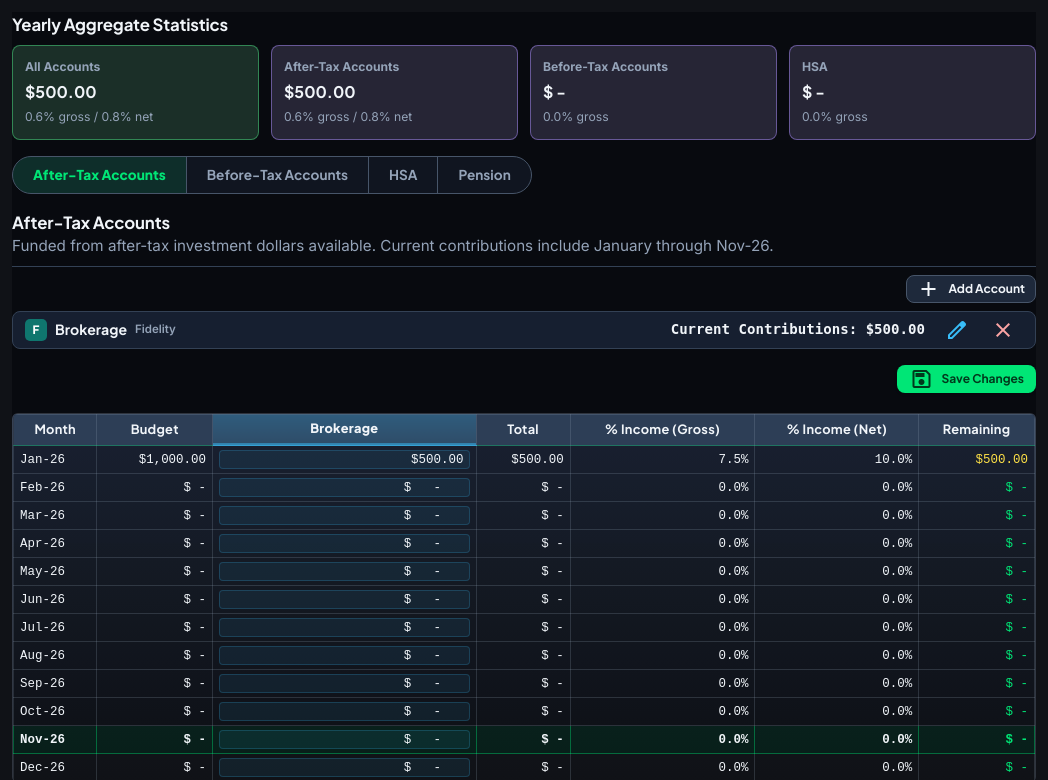
Scenario: FundingSchedulePage › presents yearly aggregate statistics and selects an allocation value for editing
Expected: the heading "Yearly Aggregate Statistics" is shown, [12, 14, 228, 35]
Expected: the element named "Funding schedule summary" shows "All Accounts", [25, 59, 100, 74]
Click the field named "Brokerage Jan-26 allocation" at x=344, y=460, box [219, 450, 470, 469]
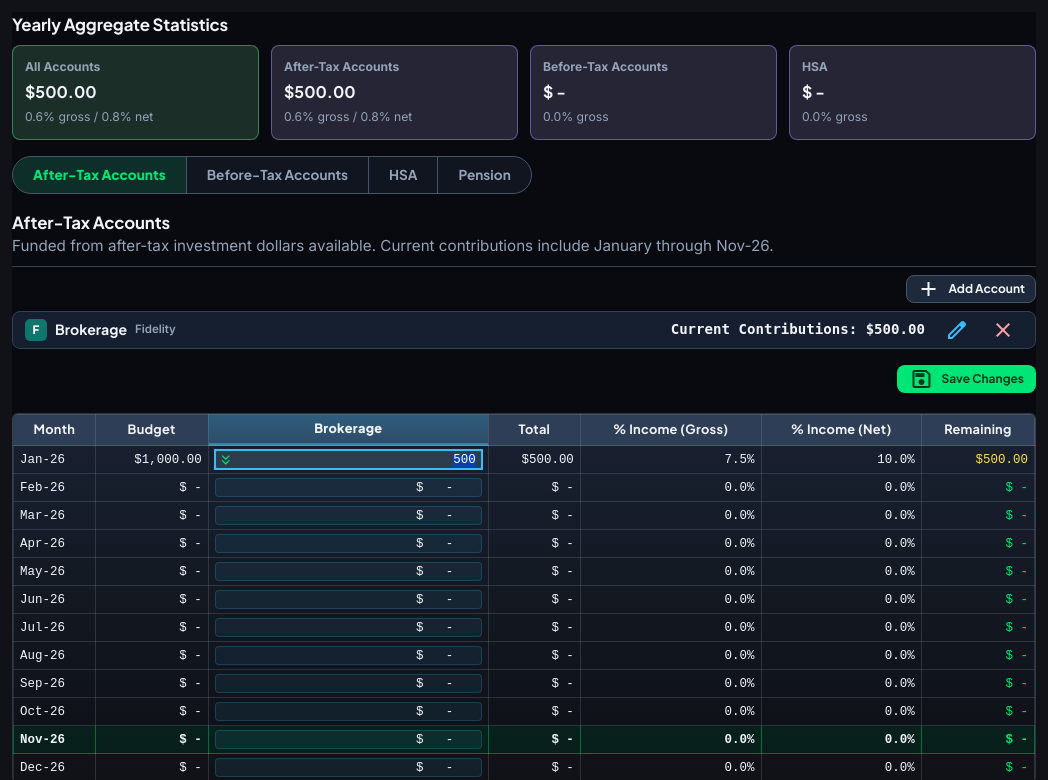
Expected: the field named "Brokerage Jan-26 allocation" holds "500", [215, 450, 482, 469]
